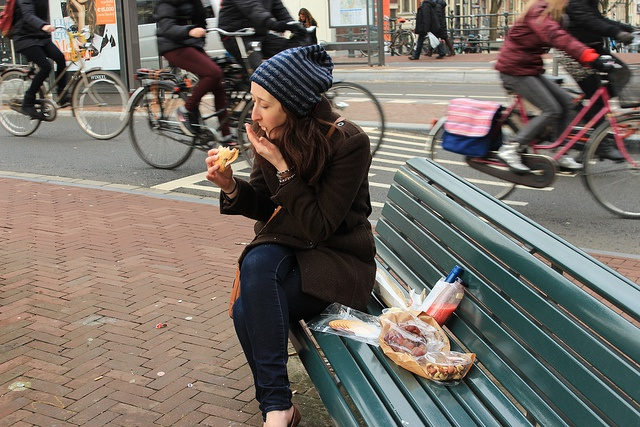non-vehicle: (426, 53, 640, 215), (129, 24, 260, 170), (1, 28, 135, 137), (324, 81, 386, 157), (391, 16, 414, 57)
